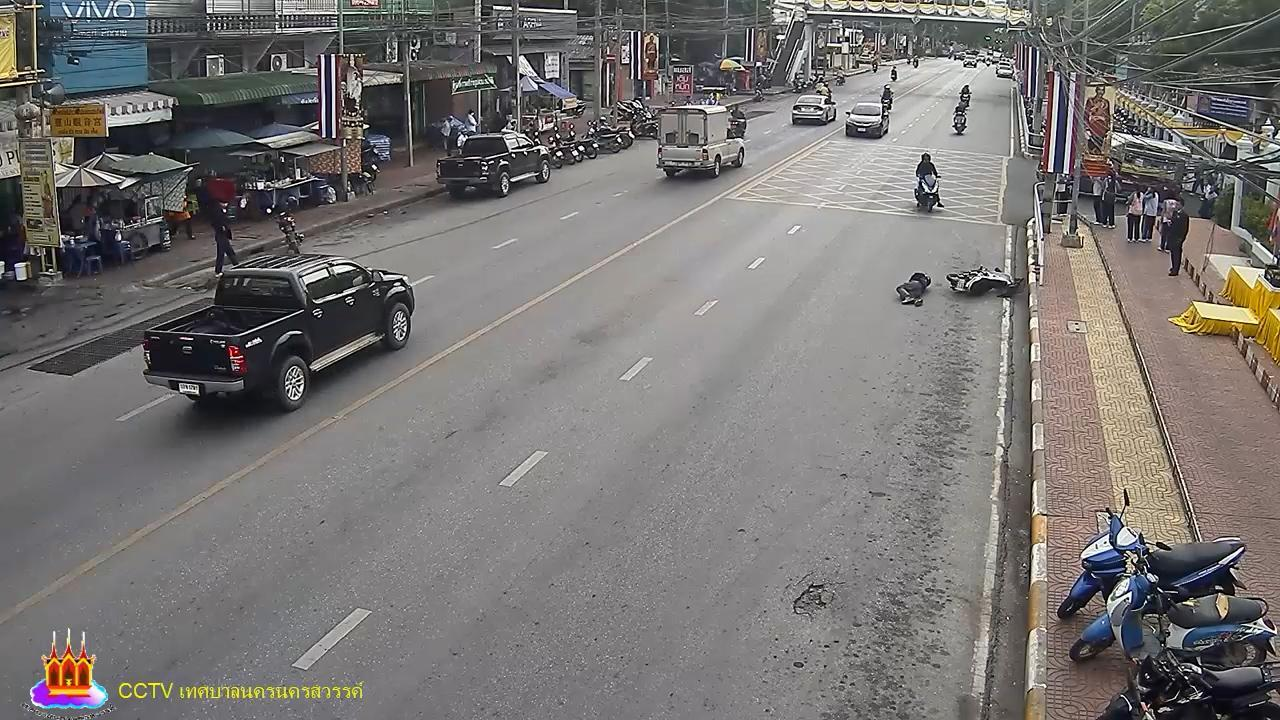accident: (893, 265, 933, 309)
